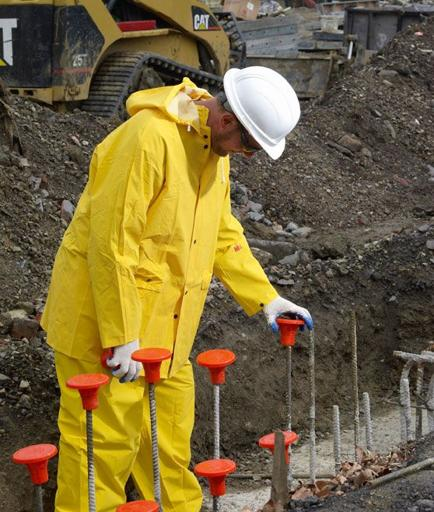safe person: (37, 60, 312, 498)
